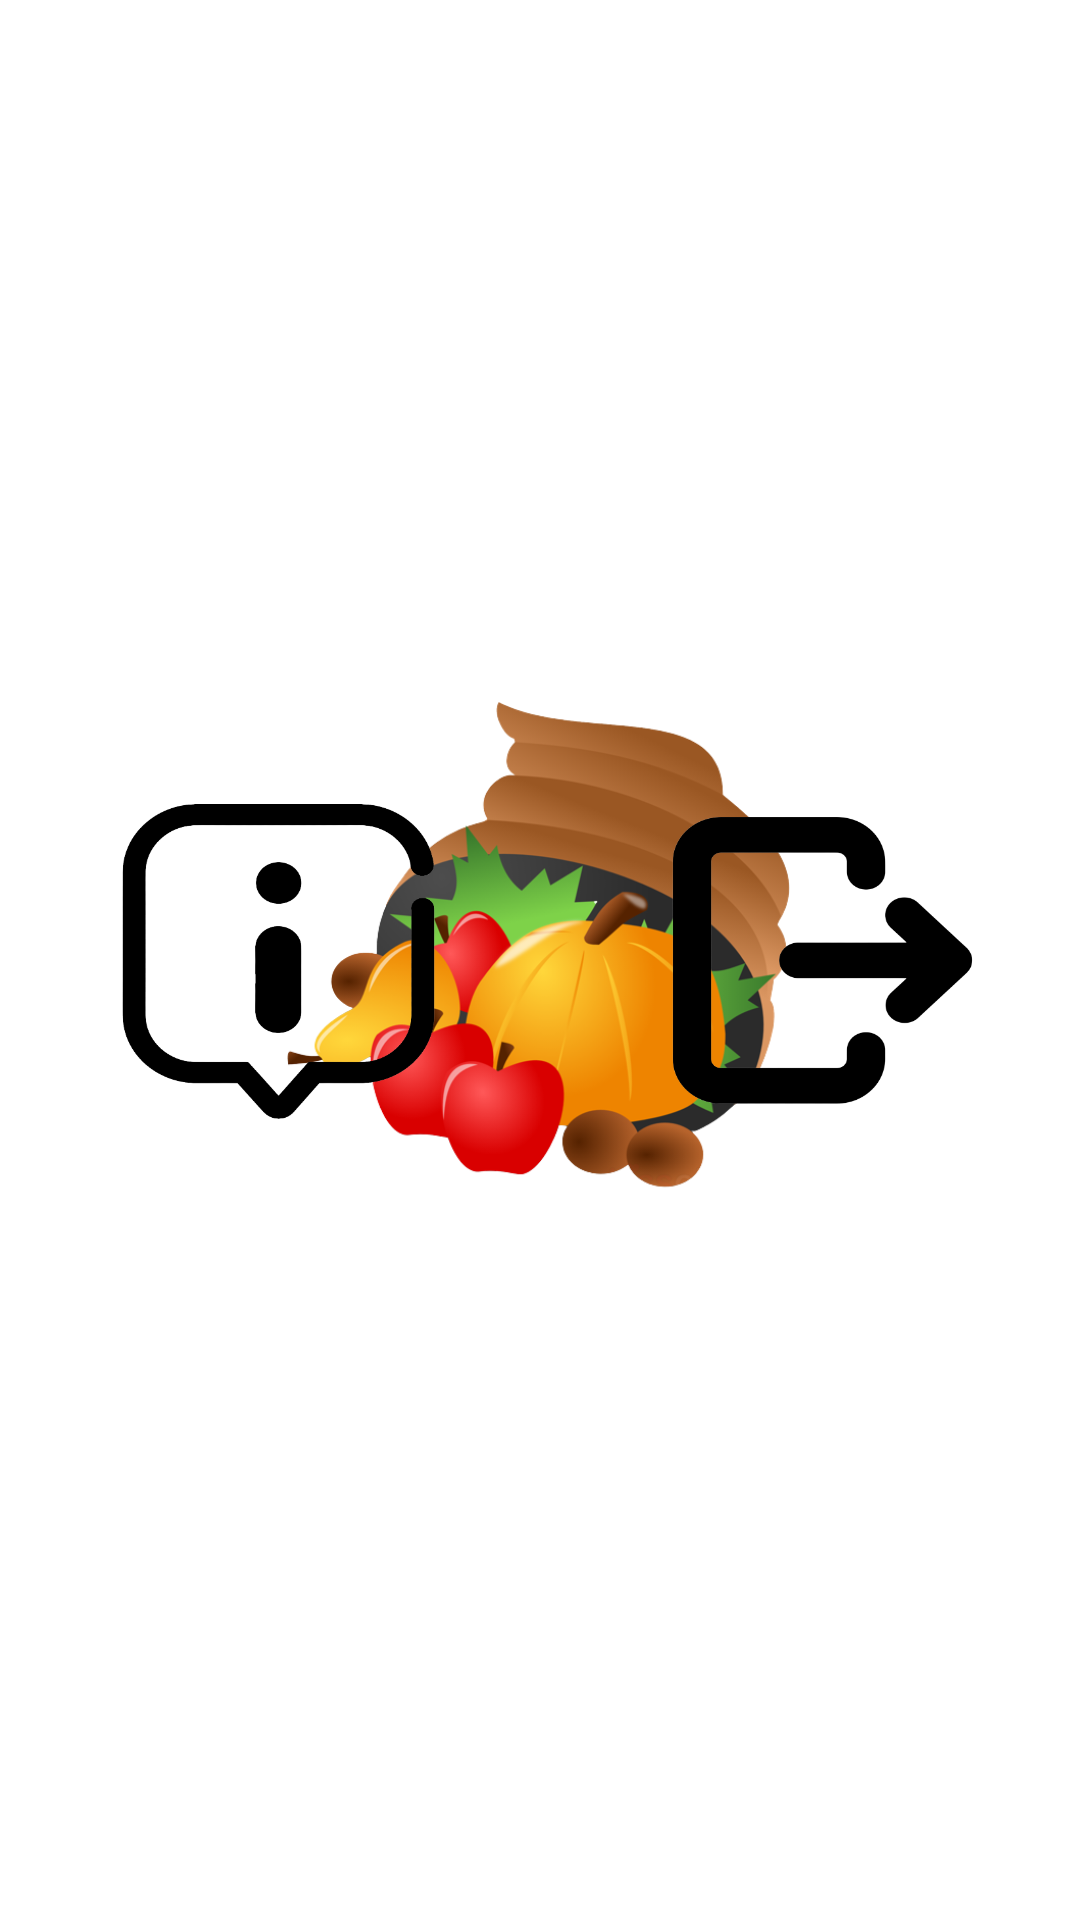

Icon click points for this 1080x1920 phone screenshot, format (x=x, y=y):
exit: (x=818, y=960)
info: (x=279, y=961)
